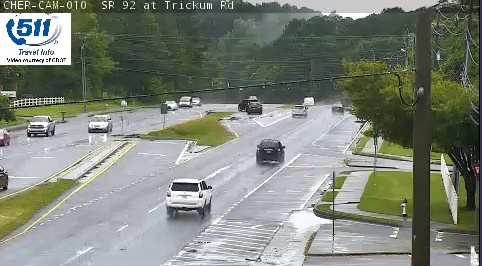car: (166, 179, 211, 210), (256, 139, 283, 162), (291, 105, 307, 117)
